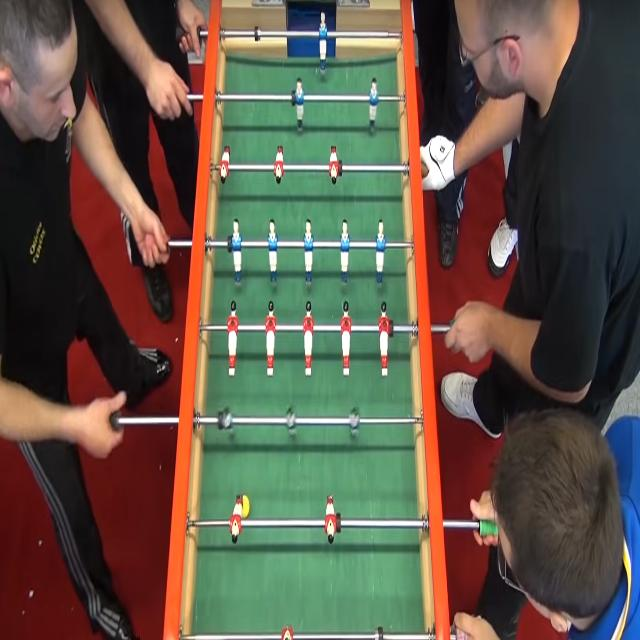ball: (240, 492, 251, 521)
